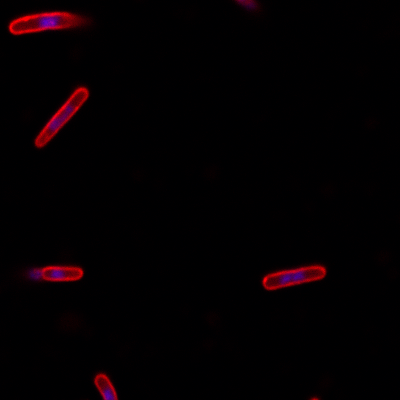Nalidixate: (33, 84, 90, 152), (259, 263, 327, 292)
Oblique: (8, 8, 88, 38), (15, 265, 85, 282)
